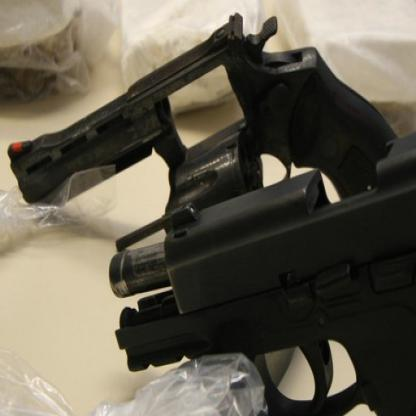gun: (4, 12, 415, 415), (6, 10, 401, 208)
